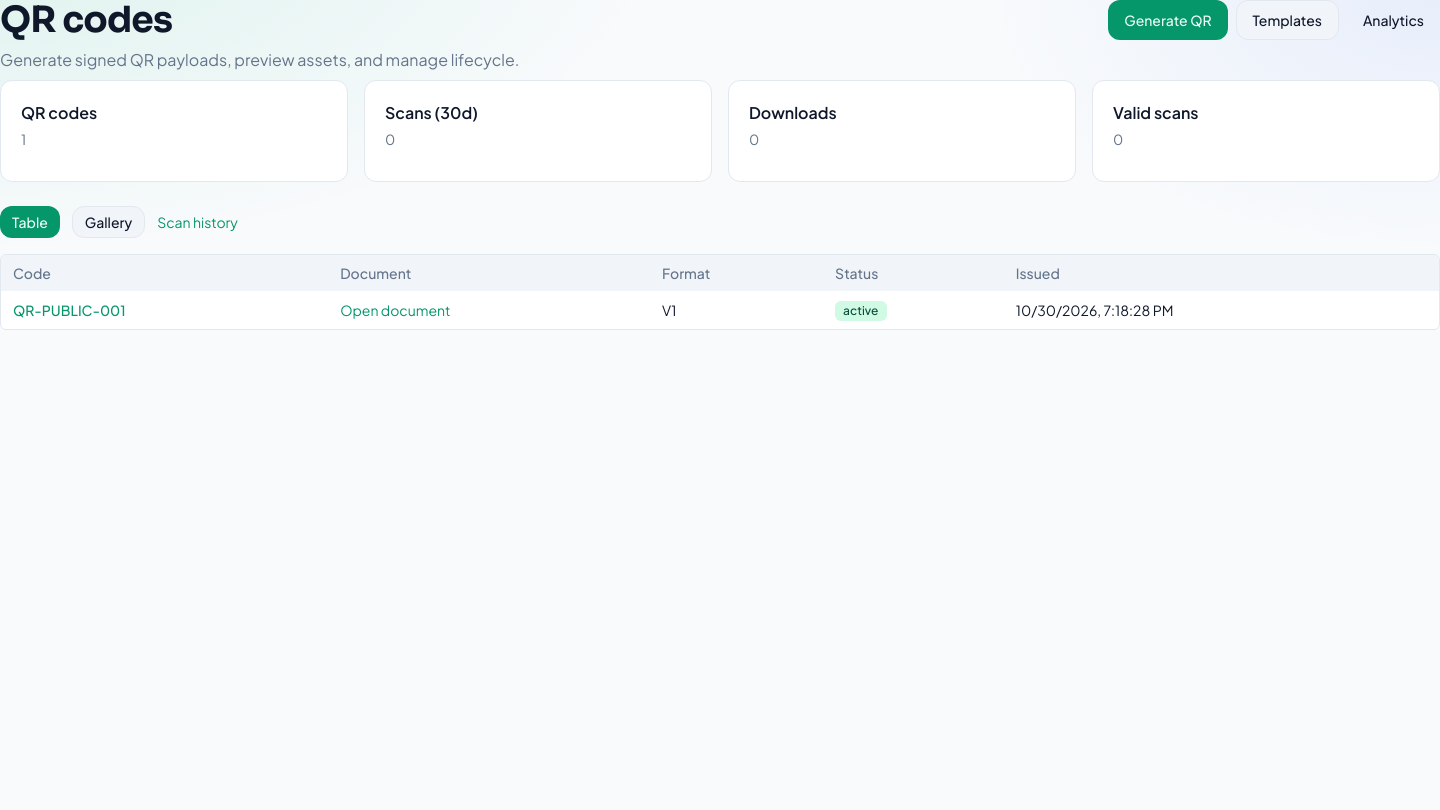
Phase A portal hardening critical path › shows generate QR for org admins
Click the button "Generate QR" at (1168, 20), box [1108,0,1228,40]
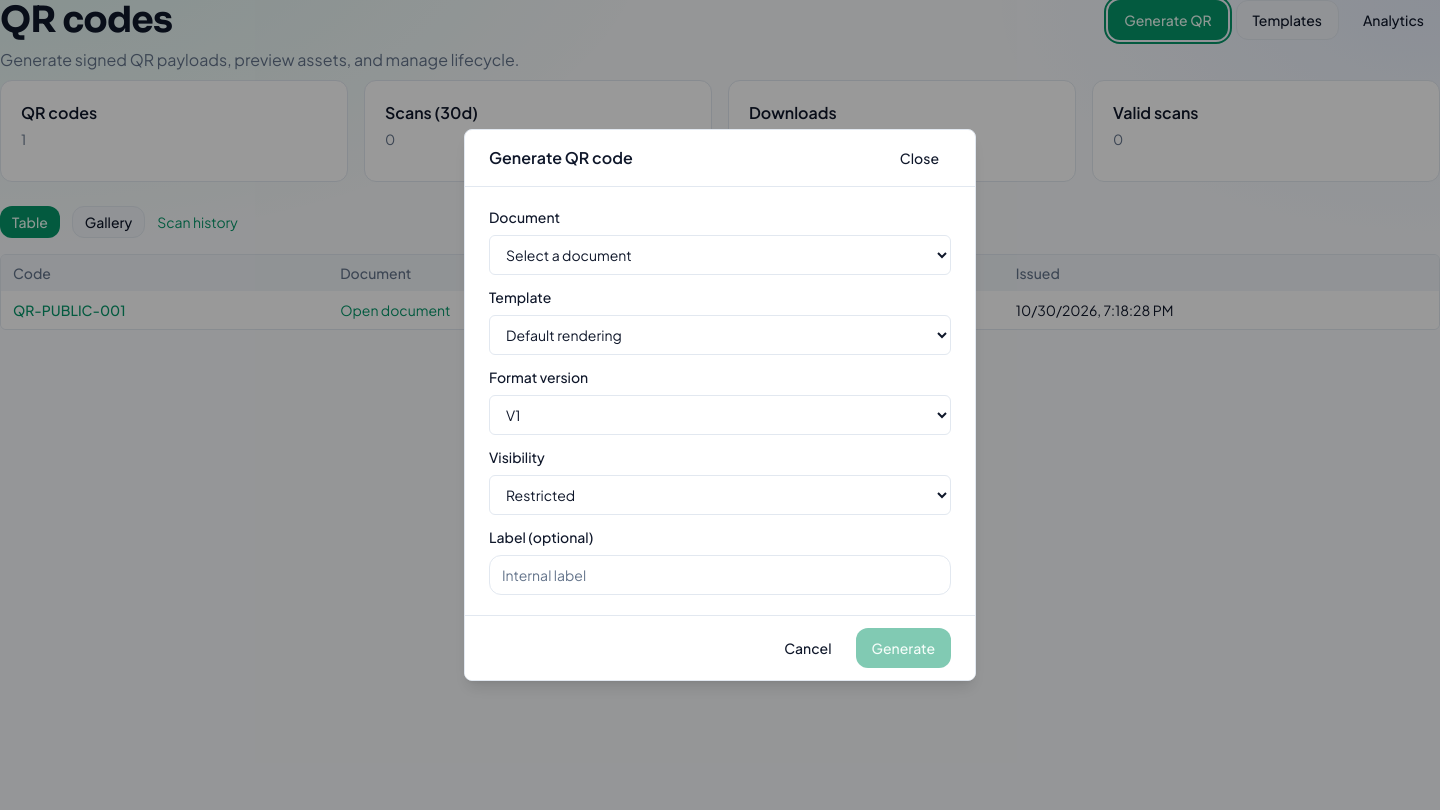
Result: the heading "Generate QR code" is shown at [489,146,633,170]
Result: the dropdown labelled "Document" is shown at [489,235,951,275]
